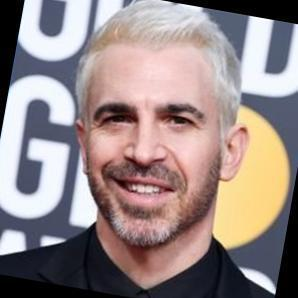Sober: (93, 42, 216, 232)
